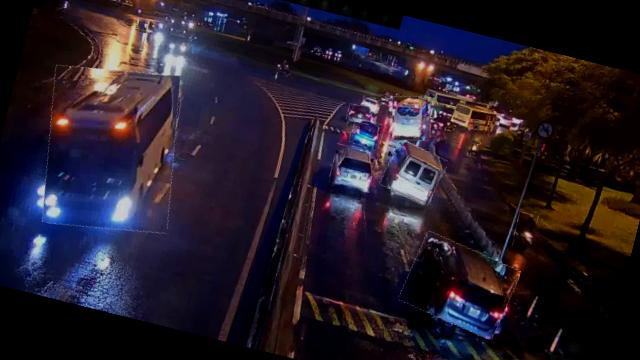Bike: (511, 212, 538, 251)
Bus: (25, 52, 197, 247), (379, 139, 448, 206), (386, 90, 438, 146)
Car: (397, 232, 522, 340), (328, 143, 380, 193), (348, 117, 385, 151), (346, 102, 376, 126), (360, 96, 380, 114)
